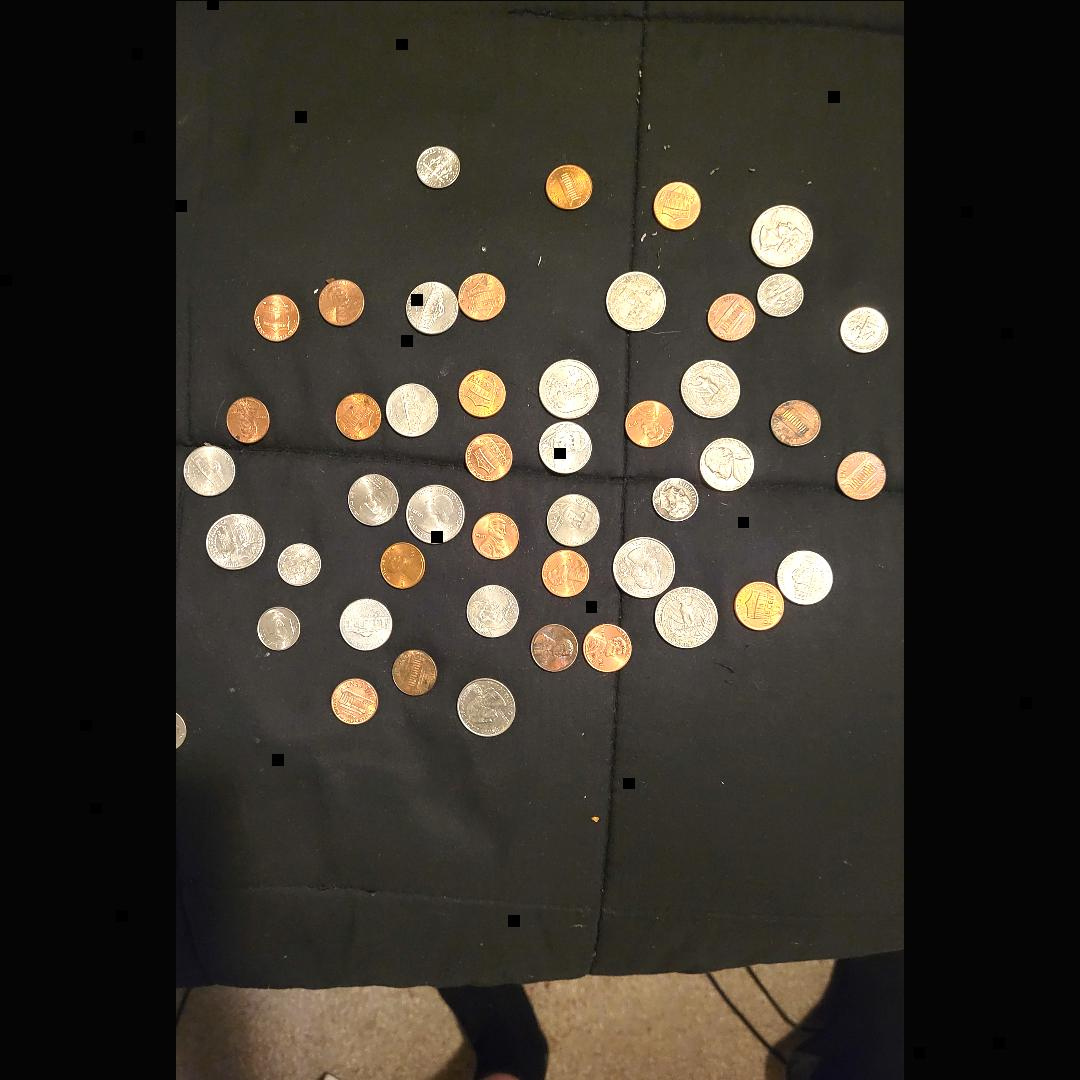Dime: (837, 298, 892, 357), (251, 598, 305, 656), (414, 138, 464, 194), (276, 537, 326, 589), (757, 272, 805, 323), (650, 470, 698, 520)
Nickel: (380, 375, 444, 439), (342, 462, 402, 528), (773, 544, 835, 606), (462, 578, 524, 639), (180, 436, 240, 498), (696, 431, 758, 491), (334, 594, 393, 656), (404, 279, 462, 339), (535, 417, 595, 473), (545, 492, 601, 544)
Penny: (460, 425, 516, 483), (324, 673, 382, 727), (468, 505, 522, 563), (624, 393, 678, 451), (457, 363, 510, 421), (220, 388, 272, 447), (836, 445, 890, 501), (376, 534, 426, 594), (332, 385, 382, 444), (312, 276, 366, 330), (540, 543, 594, 597), (390, 642, 442, 698), (650, 174, 702, 230), (250, 285, 302, 341), (768, 395, 822, 448), (730, 581, 784, 633), (582, 622, 634, 676), (703, 290, 757, 342), (528, 618, 579, 673), (542, 158, 592, 214), (458, 266, 508, 322)
Quarter: (746, 197, 815, 267), (652, 582, 722, 650), (608, 534, 678, 600), (198, 508, 270, 572), (404, 478, 470, 546), (600, 269, 668, 335), (454, 672, 520, 738), (538, 352, 602, 419), (678, 355, 744, 419)
